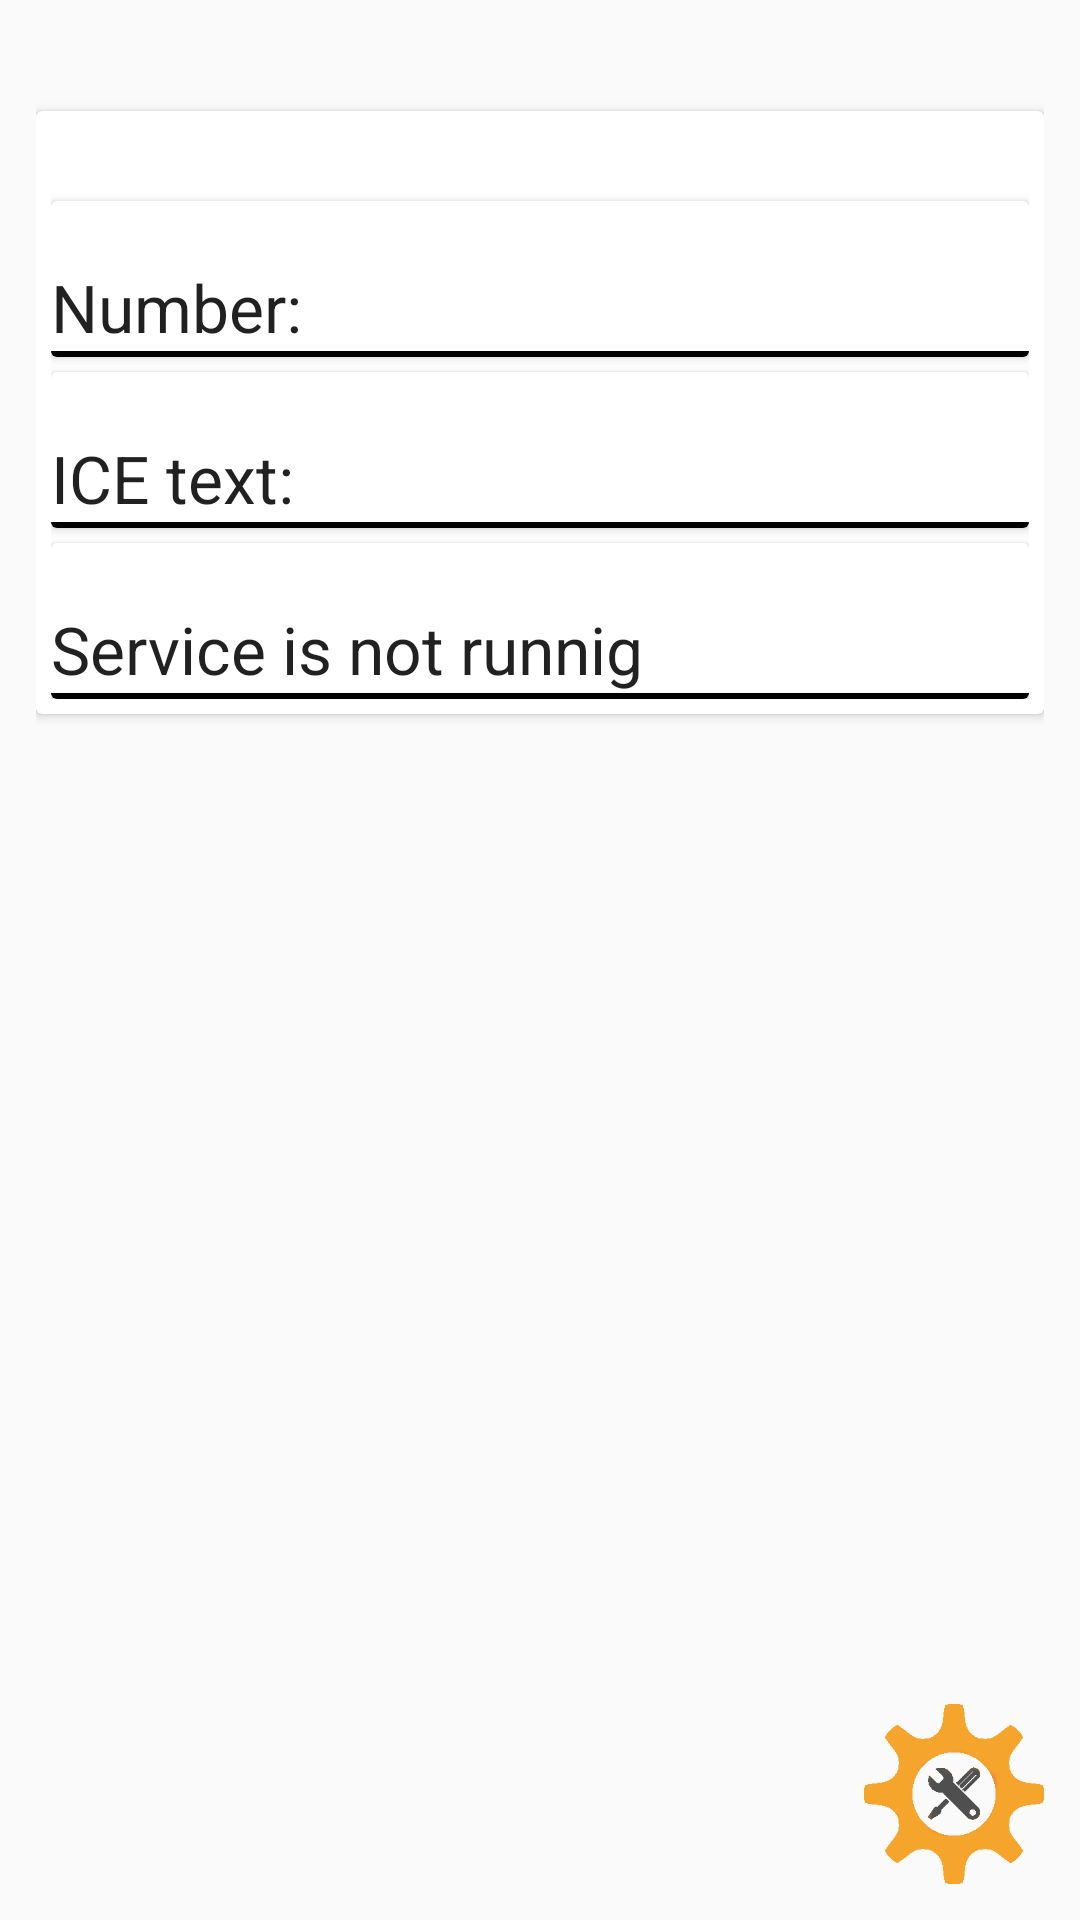

Named icons in this screenshot (1080x1920) and their bounding boxes, BBox(x1, y1, x2, y2):
seting: BBox(864, 1704, 1044, 1884)
